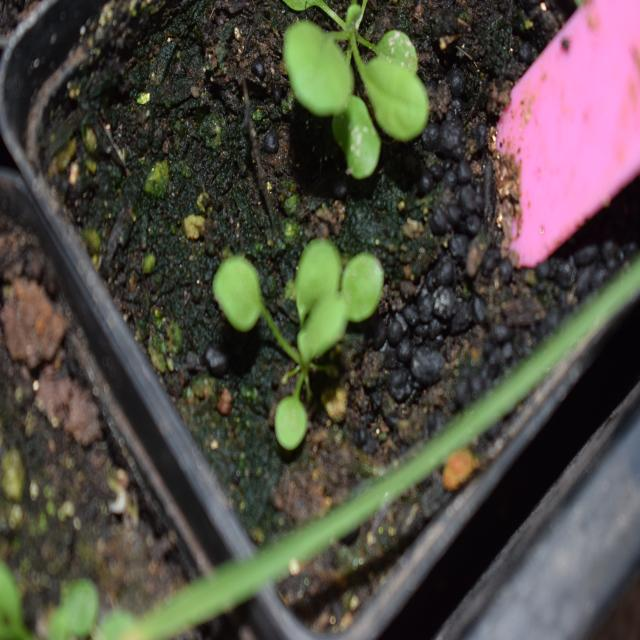Shepherd_Purse: (280, 0, 434, 171)
